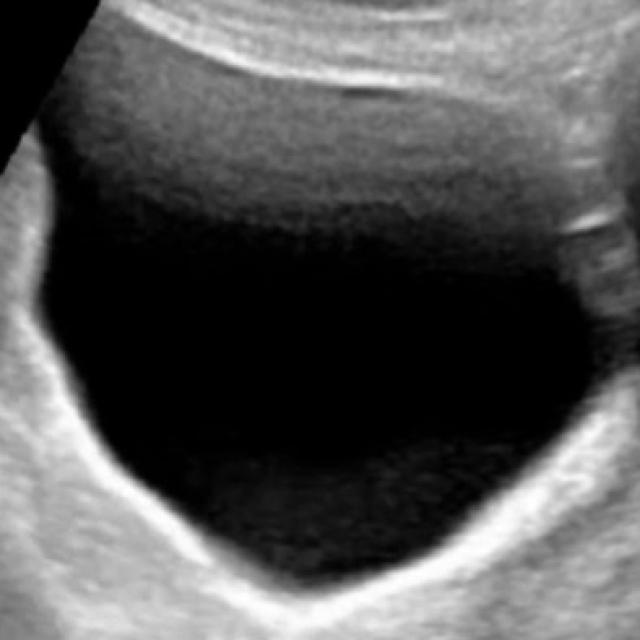bladder: (16, 0, 627, 612)
